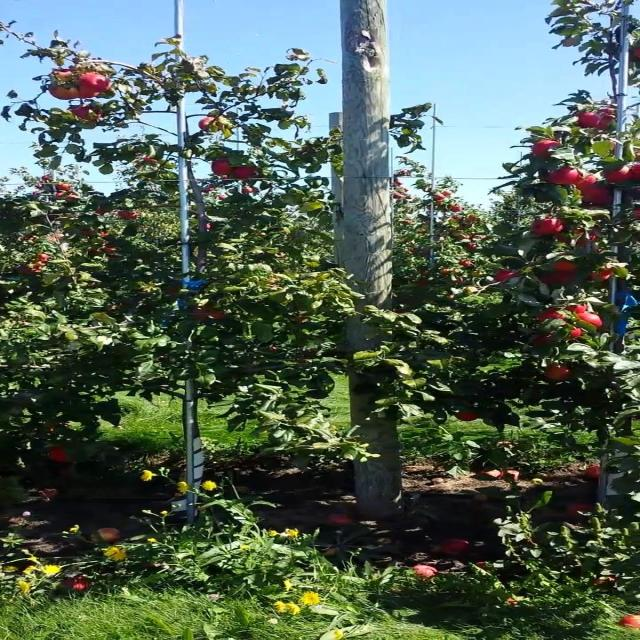apple: (580, 182, 613, 205), (78, 72, 111, 92), (547, 166, 580, 185), (531, 218, 564, 235), (69, 105, 102, 122), (531, 139, 560, 158), (49, 84, 80, 100), (569, 229, 598, 246), (544, 364, 571, 381), (573, 171, 598, 189), (540, 271, 574, 284), (604, 166, 631, 182), (540, 271, 572, 284), (576, 311, 602, 326), (578, 112, 602, 128), (211, 159, 233, 176), (49, 445, 71, 462), (596, 111, 616, 129), (538, 309, 567, 321), (193, 309, 224, 320), (233, 165, 258, 178), (51, 69, 76, 82), (493, 269, 518, 282), (553, 260, 578, 272), (589, 268, 613, 280), (456, 411, 480, 421), (76, 88, 100, 98), (531, 334, 551, 346), (198, 116, 216, 129), (629, 162, 640, 181), (564, 304, 587, 313), (569, 328, 584, 339), (44, 421, 60, 431)
